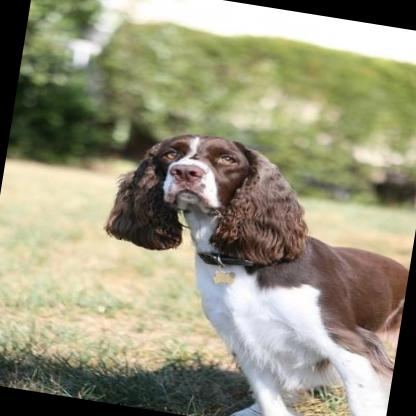English_springer: (71, 118, 416, 416)
